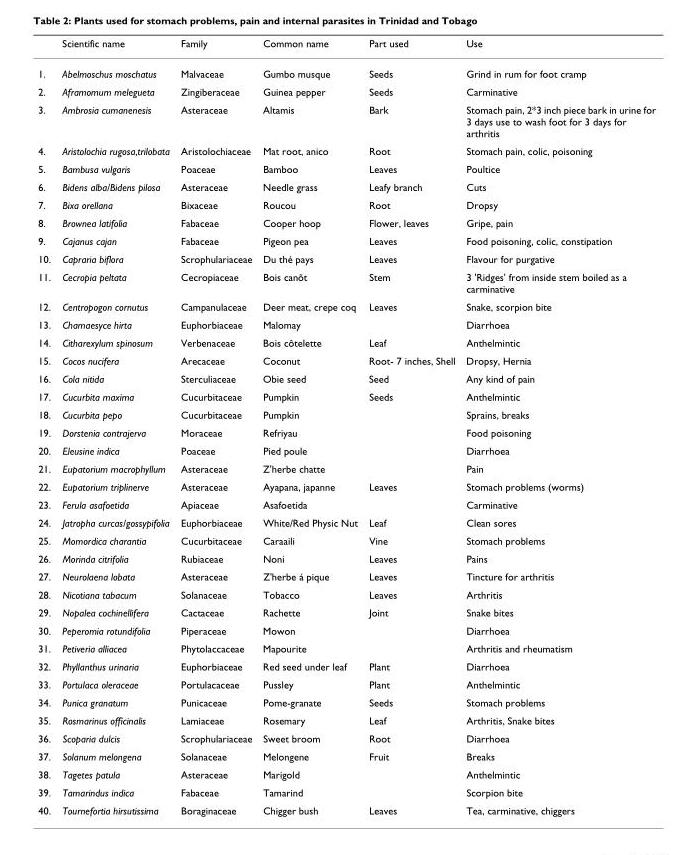table: (37, 36, 654, 815)
table column: (459, 36, 654, 815), (55, 36, 174, 815), (256, 36, 362, 815), (362, 36, 459, 815), (174, 36, 256, 815), (37, 36, 55, 815)
table column header: (37, 36, 654, 57)
table row: (37, 100, 654, 141), (37, 267, 654, 297), (37, 57, 654, 82), (37, 36, 654, 57), (37, 82, 654, 100), (37, 141, 654, 159), (37, 159, 654, 177), (37, 177, 654, 195), (37, 195, 654, 213), (37, 213, 654, 231), (37, 231, 654, 249), (37, 249, 654, 267), (37, 297, 654, 315), (37, 315, 654, 333), (37, 333, 654, 351), (37, 351, 654, 369), (37, 369, 654, 387), (37, 387, 654, 405), (37, 405, 654, 423), (37, 423, 654, 441), (37, 441, 654, 459), (37, 459, 654, 477), (37, 477, 654, 495), (37, 495, 654, 513), (37, 513, 654, 531), (37, 531, 654, 549), (37, 549, 654, 567), (37, 567, 654, 585), (37, 585, 654, 603), (37, 603, 654, 621), (37, 621, 654, 639), (37, 639, 654, 657), (37, 657, 654, 675), (37, 675, 654, 693), (37, 693, 654, 711), (37, 711, 654, 729), (37, 729, 654, 747), (37, 747, 654, 765), (37, 765, 654, 783), (37, 783, 654, 801), (37, 801, 654, 815)
